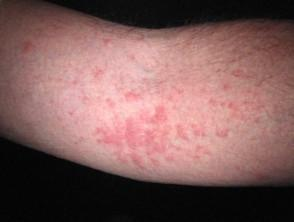Eczema: (93, 122, 133, 150), (130, 121, 164, 149), (169, 120, 207, 145), (155, 135, 184, 164), (138, 103, 171, 128), (161, 81, 190, 107), (91, 31, 124, 53), (83, 58, 112, 81), (209, 121, 234, 146), (58, 69, 86, 91), (226, 65, 255, 86), (66, 131, 95, 152), (118, 87, 149, 106), (121, 146, 149, 167), (73, 87, 98, 110), (205, 96, 242, 111), (188, 141, 211, 165), (241, 131, 264, 155), (99, 93, 125, 114), (62, 101, 84, 123), (17, 40, 43, 58), (122, 47, 144, 66), (231, 164, 252, 181), (239, 90, 255, 110)
